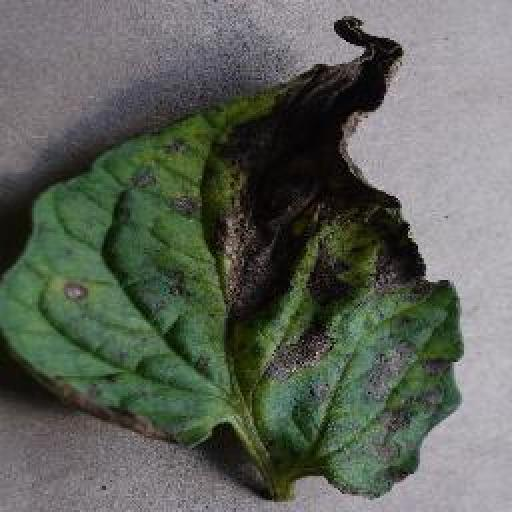Early Blight: (0, 13, 464, 504)
